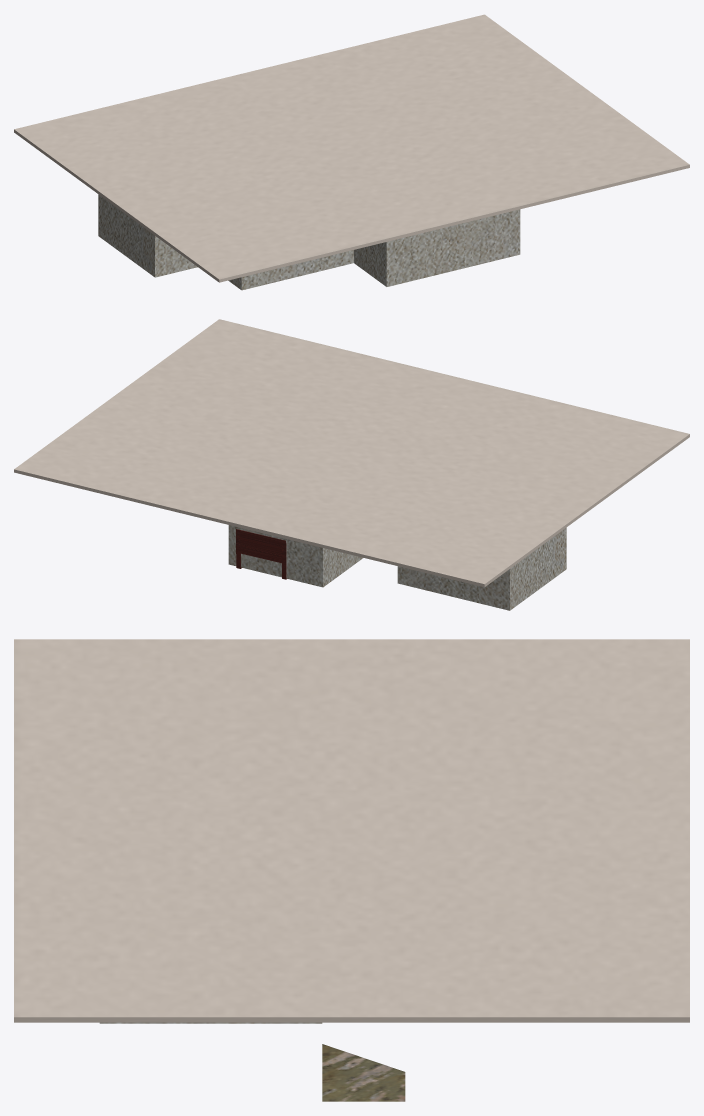
File: Room Geometry Puzzle Room 2.fbx
The picture shows the model from 3 angles, top to bottom: view 1: azimuth 30°, elevation 25°; view 2: azimuth 150°, elevation 25°; view 3: azimuth 270°, elevation 25°; orthographic projection. The views are drawn at different scales.
Parts seen in each view (by area): view 1: Cube.020, Cube; view 2: Cube.020, Cube, Cube.009; view 3: Cube.020, Cube.
Boxes of the visible parts, left/top/right/bottom form: Cube.020: left=14, top=14, right=689, bottom=282; Cube: left=98, top=194, right=520, bottom=290; Cube.020: left=14, top=319, right=689, bottom=587; Cube: left=228, top=525, right=566, bottom=610; Cube.009: left=236, top=529, right=286, bottom=579; Cube.020: left=14, top=639, right=689, bottom=1022; Cube: left=99, top=1022, right=405, bottom=1101.
Size of the model in its own units: 4965 by 772 by 3751.
